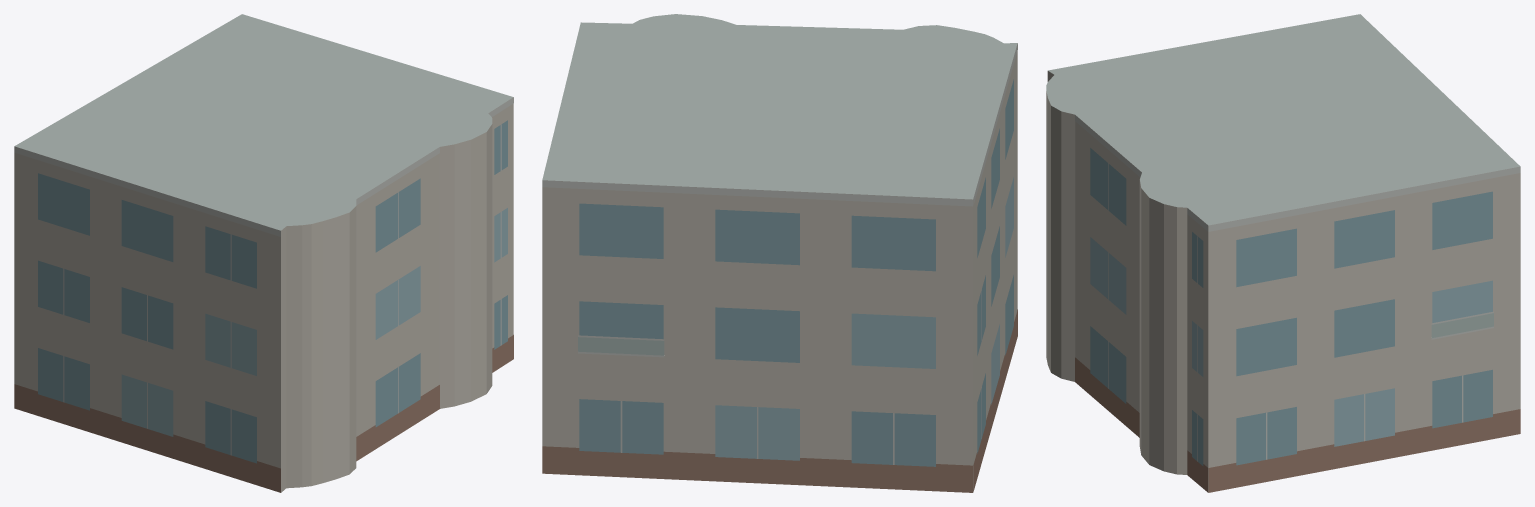
Rendered from survey-upis-32586043.glb.
3 renders of one model, left to right at view 1: azimuth 30°, elevation 25°; view 2: azimuth 150°, elevation 25°; view 3: azimuth 270°, elevation 25°, orthographic. The views are drawn at different scales.
Parts seen in each view (by area): view 1: survey-upis-32586043.tmp; view 2: survey-upis-32586043.tmp; view 3: survey-upis-32586043.tmp.
Boxes of the visible parts, x1,y1,x2,y2 form: survey-upis-32586043.tmp: (14, 14, 513, 492); survey-upis-32586043.tmp: (542, 14, 1017, 492); survey-upis-32586043.tmp: (1046, 14, 1520, 492).
Size of the model in its own units: 17.32 by 10.2 by 16.41.
